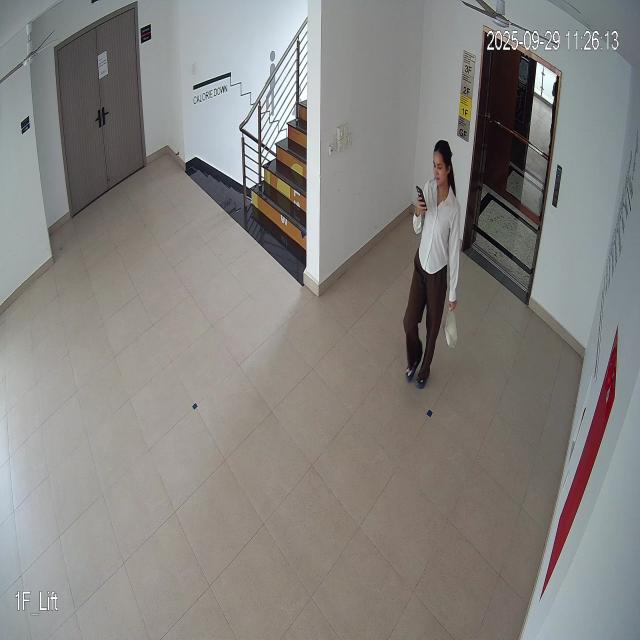face: (430, 141, 454, 189)
